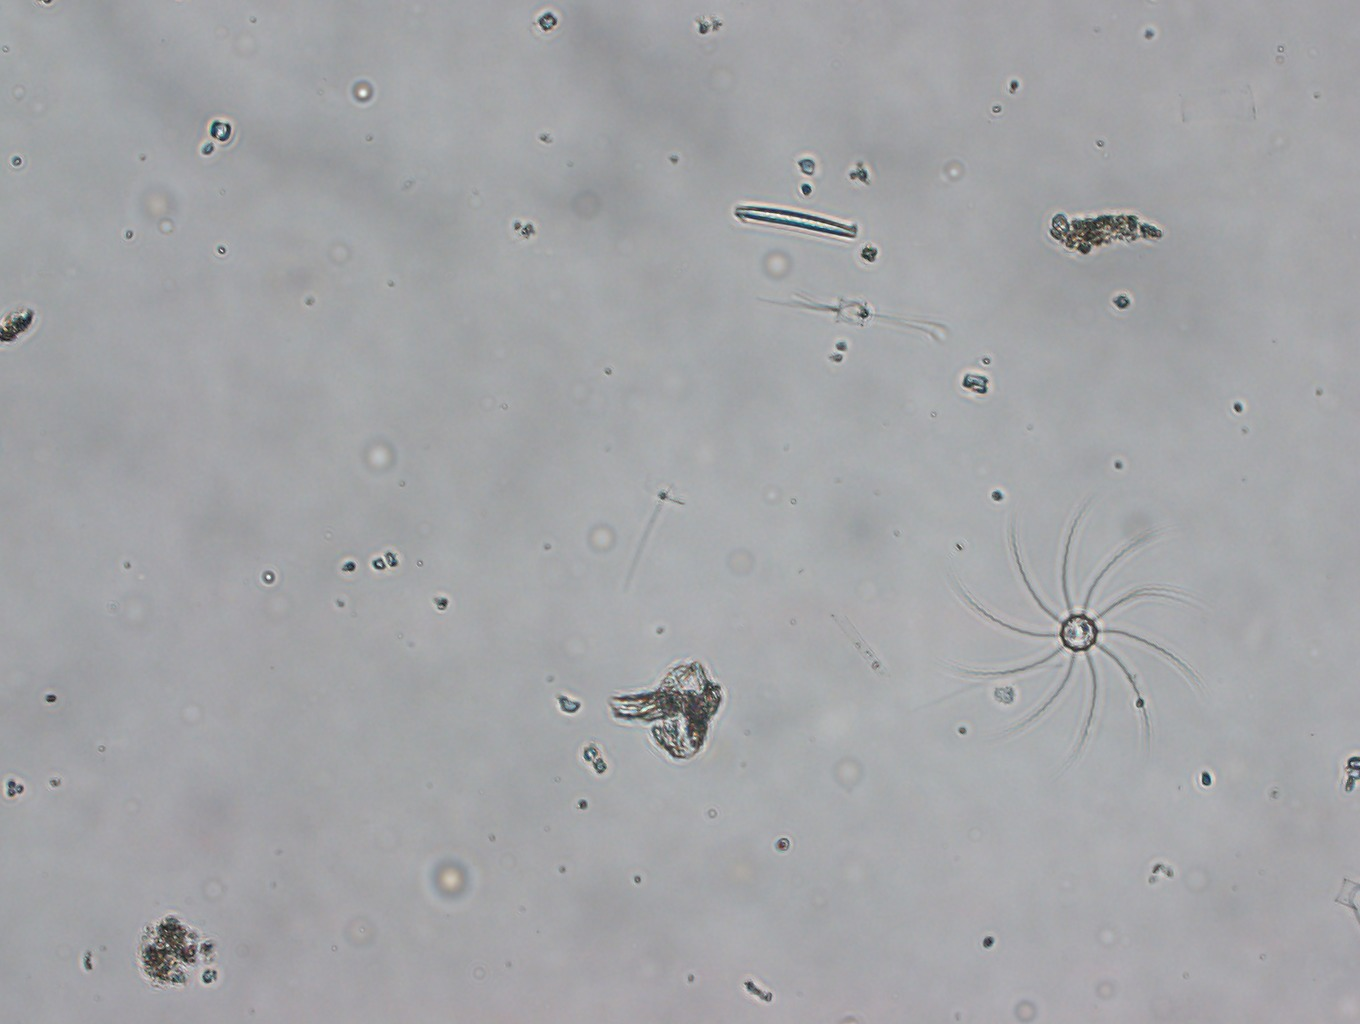bacteriastrum: (942, 514, 1223, 766)
